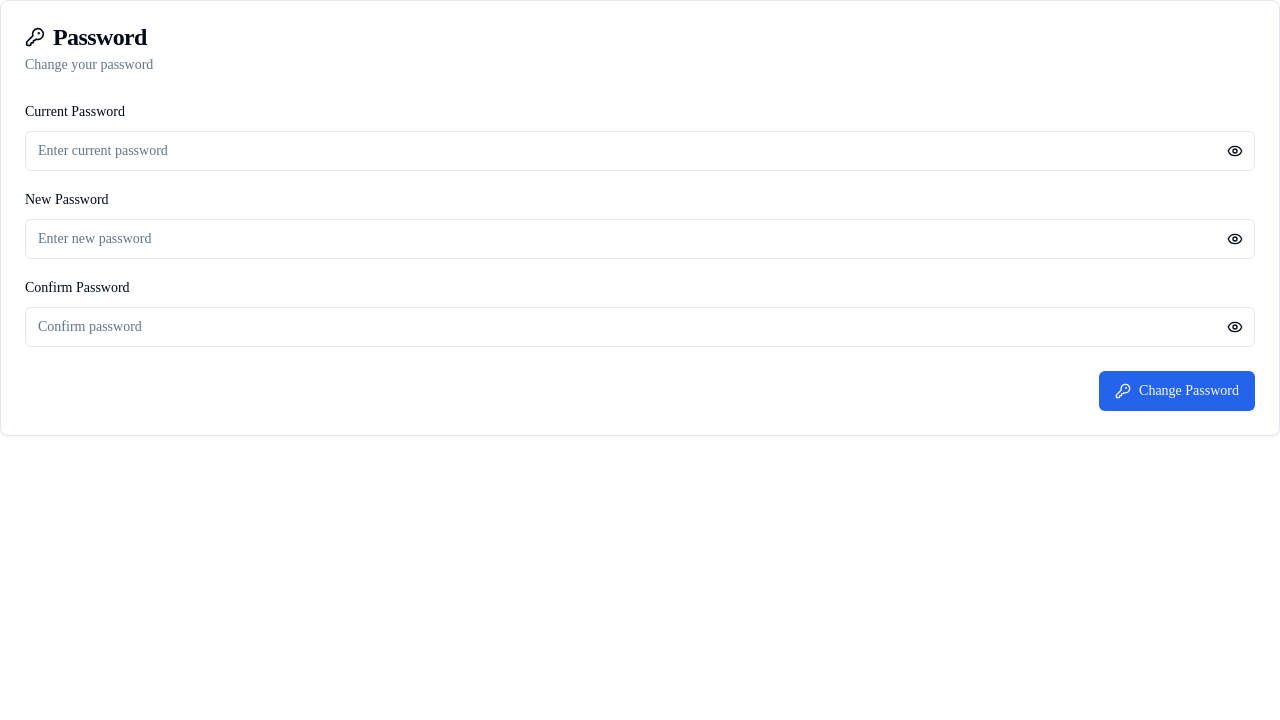
Test case: PasswordChange › when user has password › should show weak strength for short password
The width and height of the screenshot is (1280, 720).
Type "abc" into the password field labelled "New Password" at (640, 239), box [25,219,1255,259]
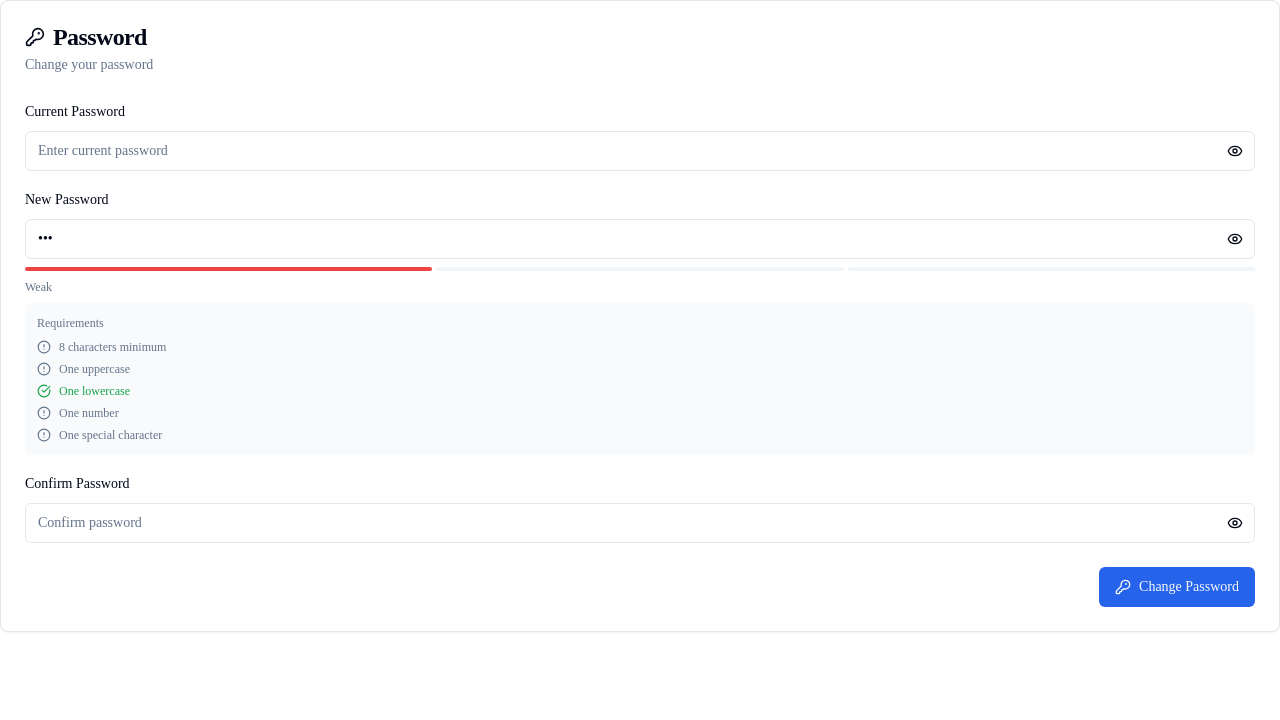
Expected: the text "Weak" is shown, [25,280,52,294]
